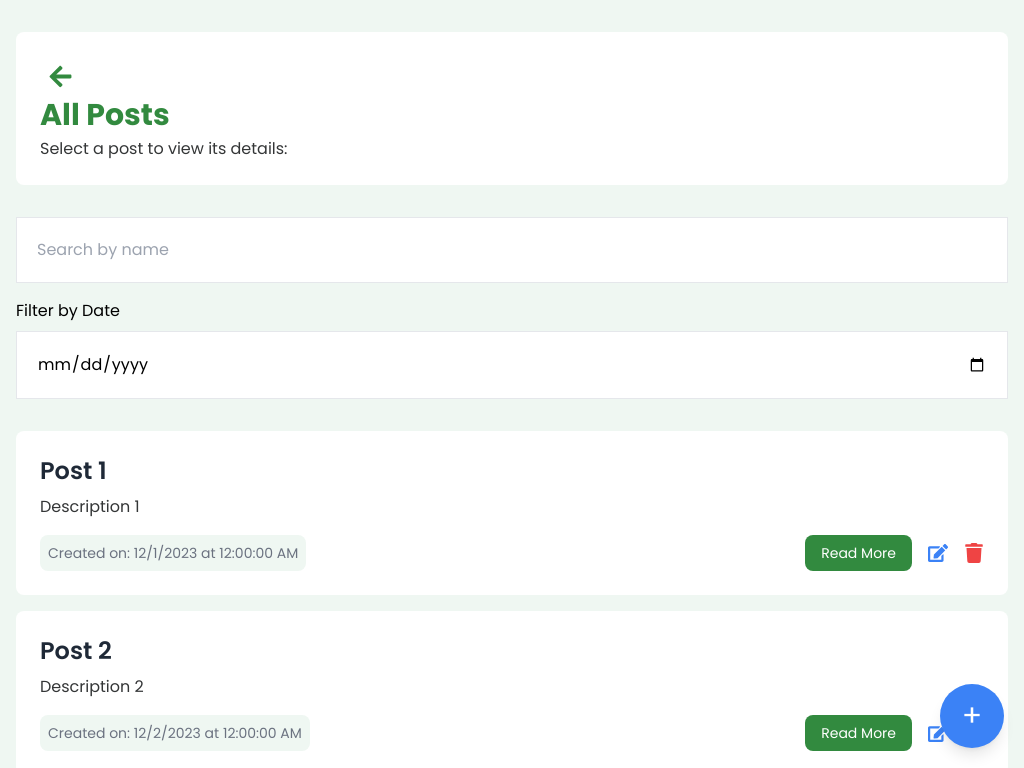
Test case: Posts Component › opens the modal to add a new post
The image size is (1024, 768).
Click the button named "add post": (972, 716) [940,684,1004,748]
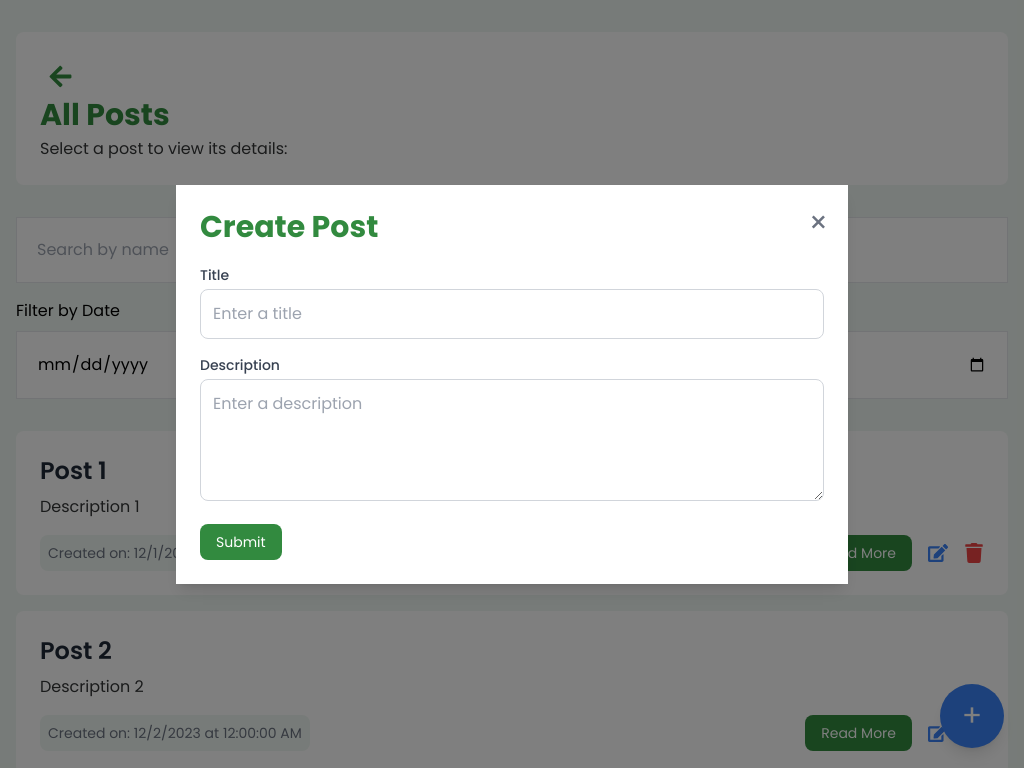
Now the dialog is shown, box [176,184,848,584]
